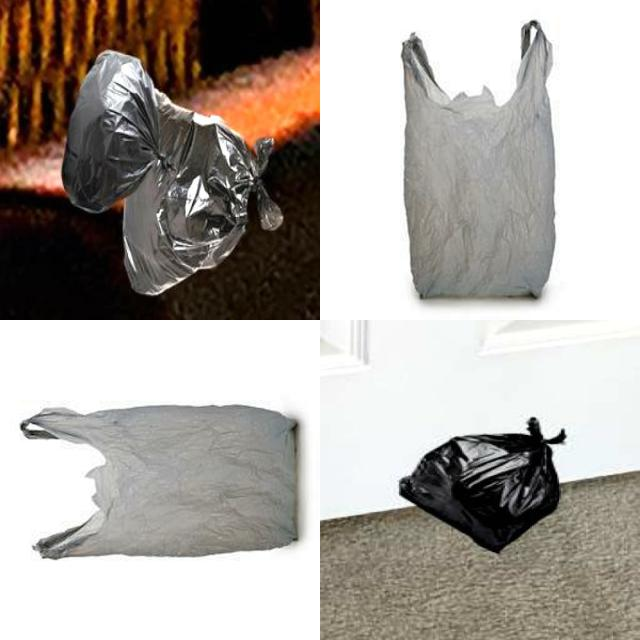Single-layer Plastic: (62, 51, 282, 295), (401, 21, 555, 299), (21, 405, 298, 559), (400, 418, 566, 552)
